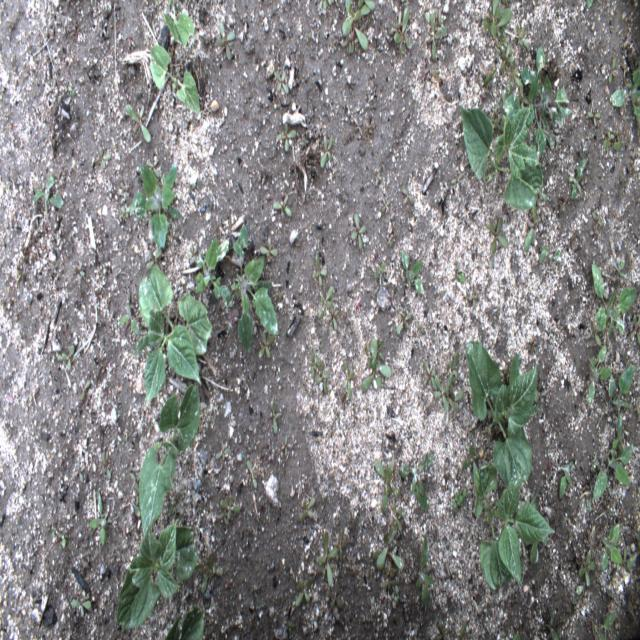crop: (465, 340, 544, 490), (133, 266, 212, 406), (472, 458, 555, 590), (459, 92, 543, 210), (139, 383, 200, 540), (116, 518, 200, 628), (149, 44, 201, 116), (154, 0, 195, 49), (164, 606, 203, 640)
weed: (224, 223, 278, 354), (130, 160, 180, 250), (525, 73, 572, 159), (591, 263, 637, 340), (193, 236, 232, 305), (608, 364, 636, 454), (398, 449, 434, 512), (593, 446, 633, 500), (372, 519, 404, 583), (33, 172, 64, 238), (528, 491, 552, 569), (609, 66, 639, 126), (586, 343, 614, 407), (361, 336, 391, 392), (341, 0, 371, 53), (415, 535, 434, 609), (520, 44, 547, 96), (373, 452, 402, 500), (389, 7, 413, 59), (315, 532, 338, 586), (522, 198, 544, 254), (401, 249, 424, 297), (600, 523, 623, 571), (89, 488, 108, 545), (194, 556, 223, 593), (125, 104, 152, 143), (551, 460, 577, 500), (482, 7, 513, 39), (485, 214, 509, 255), (120, 292, 140, 336), (426, 10, 443, 61), (590, 610, 618, 640), (216, 20, 236, 61), (306, 331, 325, 372), (294, 574, 315, 611), (568, 157, 586, 200), (506, 352, 520, 407), (433, 375, 453, 413), (576, 549, 596, 587), (317, 283, 335, 321), (350, 212, 367, 252), (445, 348, 461, 388), (275, 122, 296, 152), (626, 526, 640, 571), (319, 133, 336, 169), (219, 494, 241, 521), (487, 0, 503, 37), (380, 464, 392, 513), (256, 331, 276, 360), (315, 360, 331, 396), (426, 12, 448, 38), (422, 359, 439, 392), (311, 252, 327, 286), (498, 42, 515, 74), (273, 192, 292, 220), (446, 387, 465, 415), (298, 495, 316, 524), (584, 318, 602, 347), (541, 610, 559, 639), (342, 360, 355, 400), (57, 344, 74, 374), (267, 400, 282, 434), (326, 582, 344, 610), (462, 442, 481, 468), (538, 244, 562, 264), (145, 248, 162, 276), (530, 388, 548, 413), (390, 502, 404, 534), (396, 311, 413, 337), (507, 58, 522, 87), (95, 146, 111, 173), (515, 22, 529, 52), (70, 599, 92, 618), (245, 458, 258, 490), (326, 300, 339, 331), (274, 70, 290, 95), (335, 529, 346, 564), (518, 82, 530, 114), (613, 258, 630, 280), (195, 252, 209, 278), (144, 156, 160, 178), (316, 561, 338, 577), (587, 103, 601, 128), (98, 450, 110, 479), (566, 583, 584, 602), (444, 382, 454, 416), (630, 312, 640, 346), (215, 440, 231, 461), (279, 433, 292, 458), (434, 620, 451, 639), (74, 458, 86, 484), (74, 260, 86, 286), (132, 482, 146, 504), (373, 262, 387, 284), (259, 242, 278, 258), (452, 488, 467, 508), (608, 56, 618, 85), (617, 548, 628, 574), (606, 438, 619, 460), (502, 82, 513, 107), (56, 528, 69, 549), (308, 352, 318, 379), (380, 577, 398, 592), (79, 378, 91, 400), (352, 115, 364, 137), (402, 185, 414, 207), (520, 530, 530, 556), (602, 138, 622, 151), (169, 491, 180, 514), (454, 261, 466, 282), (364, 345, 374, 370), (346, 554, 357, 576), (130, 471, 142, 491), (414, 319, 426, 339), (592, 210, 604, 230), (119, 180, 131, 199), (376, 337, 385, 362), (341, 306, 352, 326), (457, 620, 468, 640), (528, 334, 538, 356), (358, 0, 376, 12), (373, 164, 382, 188), (469, 284, 478, 308), (388, 228, 398, 249), (274, 292, 284, 312), (221, 503, 230, 525), (287, 614, 296, 636), (493, 41, 504, 59), (611, 128, 622, 146), (589, 454, 600, 472), (432, 68, 446, 82), (120, 204, 132, 220), (188, 244, 198, 263), (499, 31, 509, 50), (332, 405, 341, 426), (451, 172, 464, 186), (198, 500, 210, 515), (381, 197, 391, 215), (436, 11, 445, 31), (503, 362, 512, 382), (589, 224, 600, 240), (418, 66, 430, 80), (130, 502, 141, 516), (491, 116, 502, 130), (340, 392, 348, 411), (317, 0, 332, 10), (329, 37, 337, 55), (490, 102, 498, 120), (70, 25, 80, 39), (393, 585, 400, 605), (606, 128, 616, 142), (502, 64, 511, 77), (23, 64, 31, 78), (188, 180, 196, 193), (68, 85, 76, 97), (512, 630, 521, 639), (494, 38, 502, 48), (633, 58, 640, 69), (381, 155, 385, 172), (586, 0, 594, 8), (51, 521, 55, 536), (497, 23, 501, 38), (312, 614, 318, 623)
